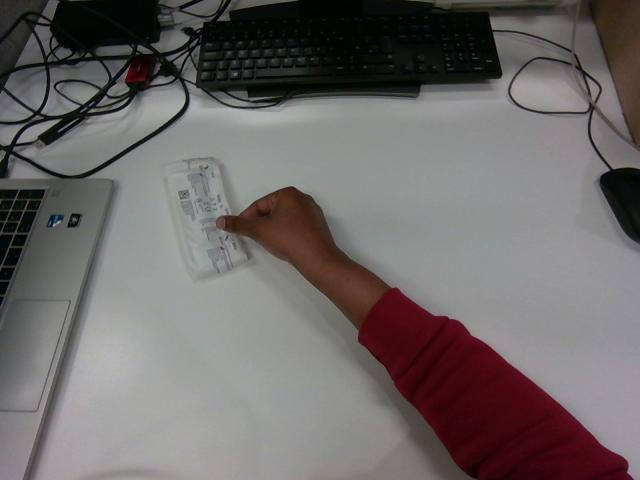syringe: (164, 157, 247, 279)
